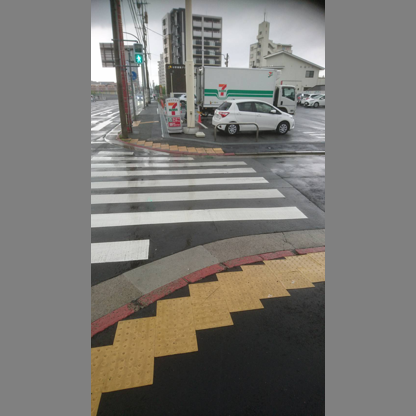brailleblock: (119, 320, 151, 383), (158, 300, 195, 352), (188, 280, 220, 329), (219, 271, 258, 309), (252, 265, 285, 295), (92, 347, 115, 388), (276, 259, 308, 285), (309, 252, 323, 280)
crosswalk: (92, 161, 244, 230)
signal: (132, 43, 144, 64)
